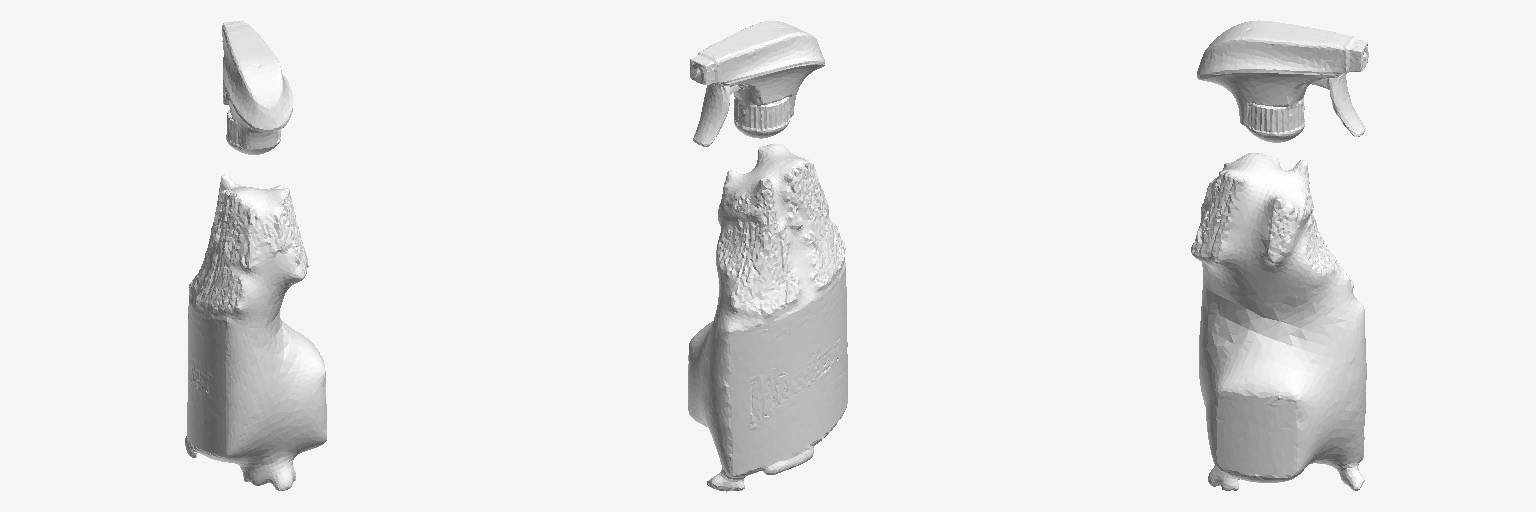
URDF robot description (022_windex_bottle):
<?xml version="1.0" ?>
<robot name="022_windex_bottle">
    <link name="baseLink">
        <contact>
        <friction_anchor/>
        <lateral_friction value="1.5"/>
        <rolling_friction value="0.1"/>
        <spinning_friction value="0.1"/>
        <contact_cfm value="1e-5"/>
        <contact_erp value="0.8"/>
        </contact>
        <visual>
            <origin rpy="0 0 0" xyz="0 0 0"/>
            <geometry>
                <mesh filename="assets/objects/022_windex_bottle/meshes/022_windex_bottle_textured.obj" scale="1 1 1"/>
            </geometry>
            <material name="white">
                <color rgba="1 1 1 1"/>
            </material>
        </visual>
        <collision>
            <origin rpy="0 0 0" xyz="0 0 0"/>
            <geometry>
                <mesh filename="assets/objects/022_windex_bottle/meshes/022_windex_bottle_textured.obj" scale="1 1 1"/>
            </geometry>
        </collision>
        <inertial>
            <origin rpy="0 0 0" xyz="0 0 0"/>
            <mass value="1.0"/>
            <inertia ixx="0.1" ixy="0" ixz="0" iyy="0.1" iyz="0" izz="0.1"/>
        </inertial>
    </link>
</robot>

--- Facts derived from the render (not from the file) ---
Views: 3 orthographic renders of the robot side by side, from view 1: azimuth 30°, elevation 25°; view 2: azimuth 150°, elevation 25°; view 3: azimuth 270°, elevation 25°.
Model 022_windex_bottle with 1 links and 0 joints (none), rooted at baseLink, posed all joints at 0.
Visible links, largest first — view 1: baseLink; view 2: baseLink; view 3: baseLink.
Link boxes in pixels (x1=…): baseLink: x1=185, y1=20, x2=326, y2=490; baseLink: x1=688, y1=21, x2=847, y2=491; baseLink: x1=1191, y1=20, x2=1368, y2=490.
Size in the robot's own frame: 0.0827 by 0.0954 by 0.2698 metres.
1 mesh visuals loaded from 1 distinct referenced files (1 OBJ).
